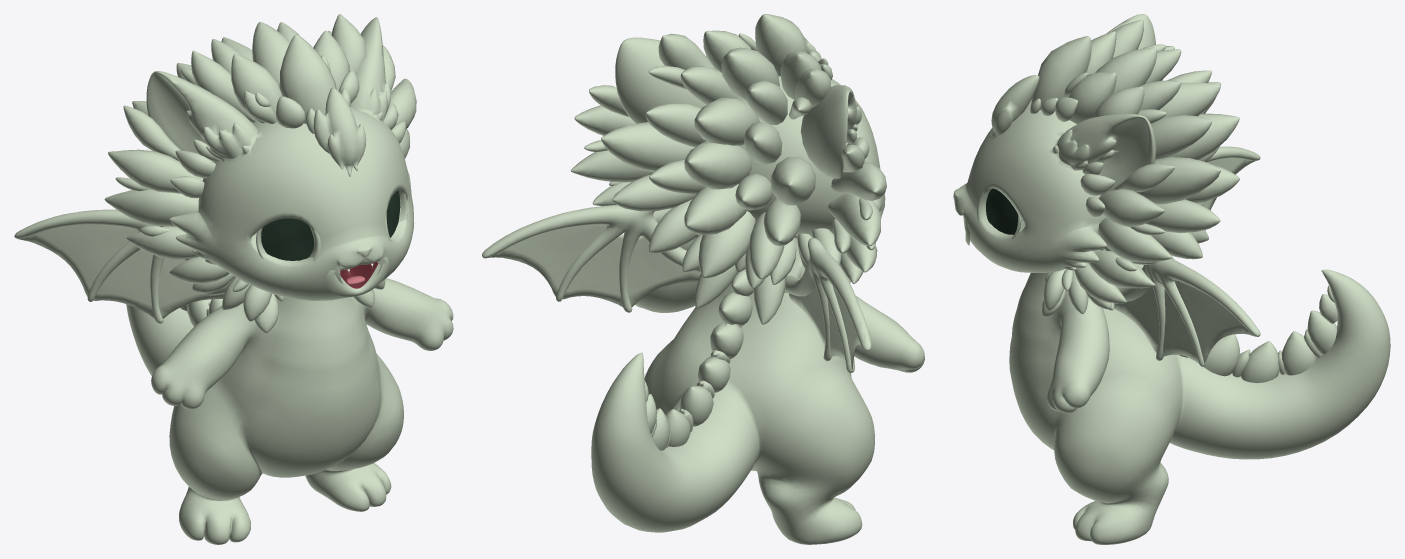
File: jill-texture-input-neutral-v003.fbx
The picture shows the model from 3 angles, left to right: view 1: azimuth 30°, elevation 25°; view 2: azimuth 150°, elevation 25°; view 3: azimuth 270°, elevation 25°; orthographic projection. The views are drawn at different scales.
Visible parts, largest first — view 1: Jill_Texture_Input_Neutral_v003; view 2: Jill_Texture_Input_Neutral_v003; view 3: Jill_Texture_Input_Neutral_v003.
Part boxes in pixels (x1,y1,x2,y2): Jill_Texture_Input_Neutral_v003: (14,14,453,544); Jill_Texture_Input_Neutral_v003: (482,14,924,544); Jill_Texture_Input_Neutral_v003: (953,14,1390,544).
Size of the model in its own units: 82.18 by 99.95 by 84.72.
